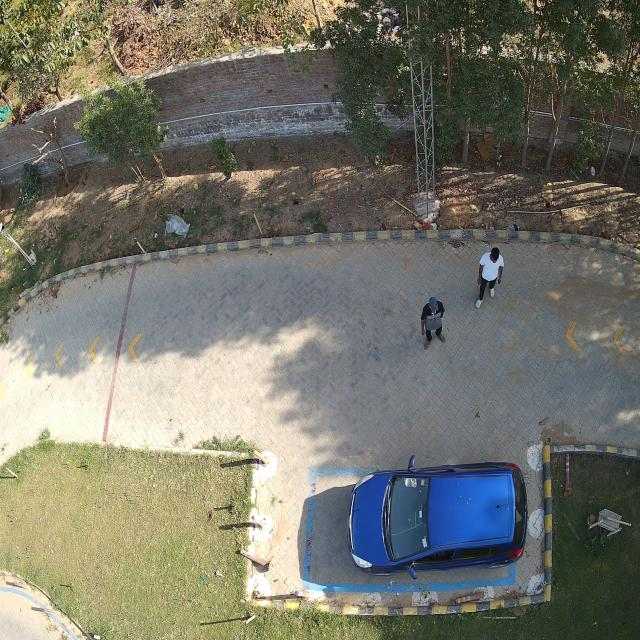car: (348, 458, 528, 578)
